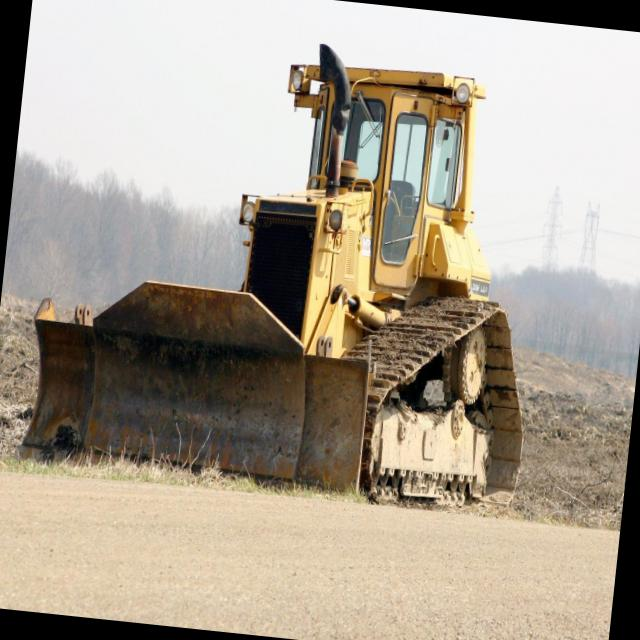Bulldozer: (16, 6, 625, 568)
